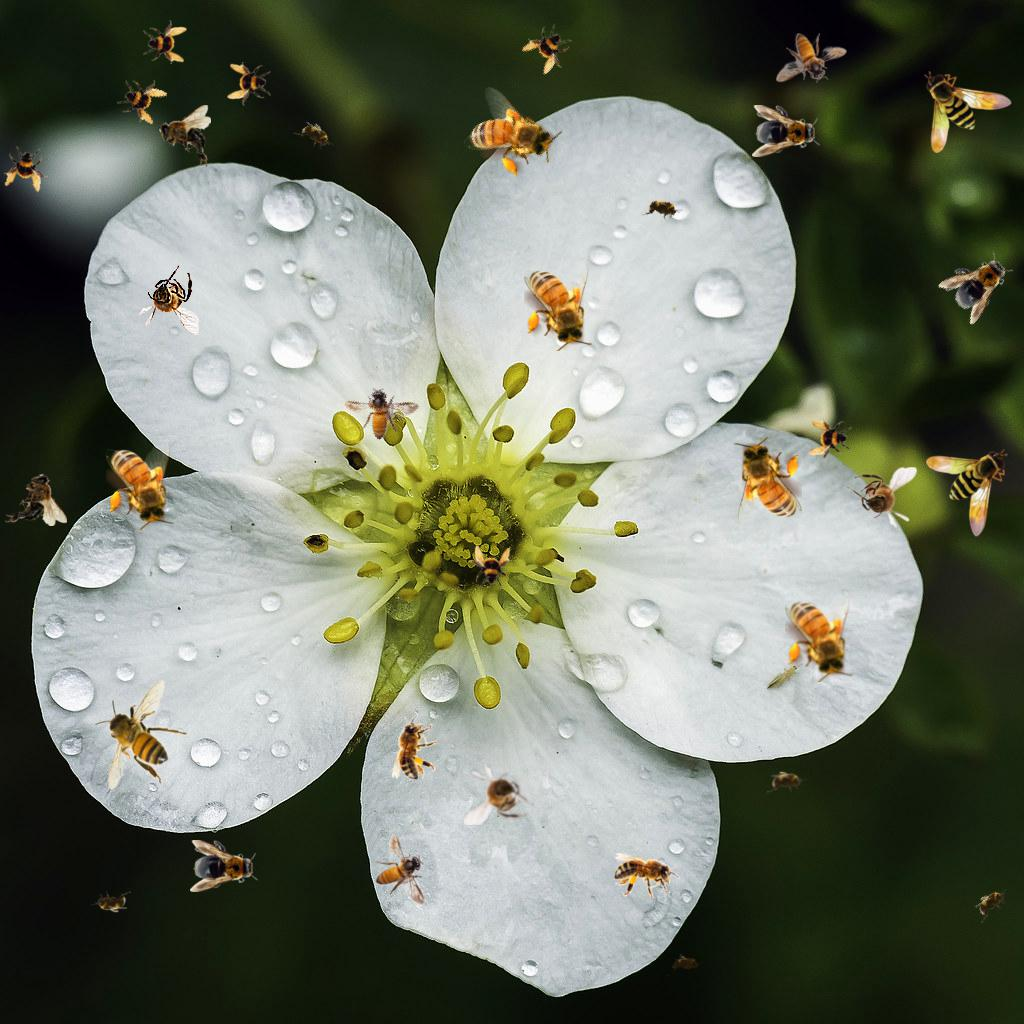Bee: (452, 80, 568, 191), (94, 679, 188, 790), (936, 240, 1022, 326), (926, 449, 1008, 537), (924, 71, 1012, 153), (335, 374, 421, 451), (524, 258, 592, 351), (785, 589, 853, 682), (106, 437, 174, 530), (734, 437, 802, 530), (138, 265, 199, 335), (847, 467, 917, 528), (464, 764, 534, 825), (517, 17, 581, 81), (375, 834, 425, 905), (776, 33, 847, 83), (190, 840, 258, 892), (752, 105, 820, 157), (113, 70, 171, 128), (5, 473, 67, 526), (158, 105, 211, 167), (614, 853, 680, 898), (392, 714, 437, 780), (2, 144, 52, 194), (808, 418, 852, 462), (143, 20, 187, 64), (227, 62, 271, 106), (468, 545, 512, 589), (293, 115, 339, 157), (969, 882, 1015, 924), (641, 193, 685, 225), (666, 954, 706, 976), (767, 771, 807, 793), (91, 891, 131, 913)
